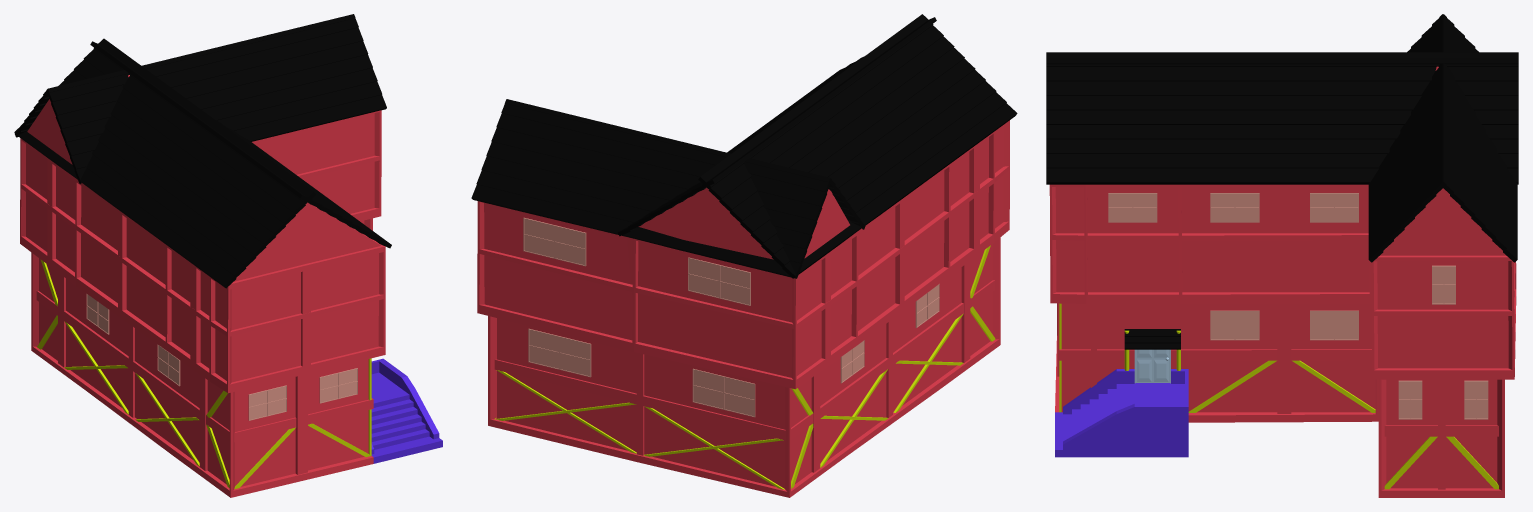
The model's file is Buidling 3_Finished.fbx.
3 views of the same model, side by side, from view 1: azimuth 30°, elevation 25°; view 2: azimuth 150°, elevation 25°; view 3: azimuth 270°, elevation 25° (orthographic). The views are drawn at different scales.
Visible parts, largest first — view 1: Building Main, roof, roof.002, Building STairs, Roof.001, roof.001, Window_Square.003, Window_Square.002, wooden brace.014, Window_Square.006, Window_Square.007; view 2: Building Main, roof, roof.001, Roof.001, Window_Square.013, Window_Square.015, Window_Square.014, Window_Square.012, roof.002, Window_Square.006, Window_Square.007; view 3: Building Main, Roof.001, Building STairs, roof.001, roof.002, roof, Window_Square, Window_Square.001, Window_Square.008, Window_Square.010, Window_Square.009, Door.001 (+6 smaller).
Boxes of the visible parts, left/top/right/bottom form: Building Main: left=20, top=75, right=385, bottom=497; roof: left=14, top=38, right=315, bottom=288; roof.002: left=46, top=14, right=386, bottom=183; Building STairs: left=371, top=358, right=442, bottom=463; Roof.001: left=90, top=41, right=391, bottom=248; roof.001: left=15, top=14, right=355, bottom=137; Window_Square.003: left=248, top=385, right=286, bottom=420; Window_Square.002: left=319, top=368, right=357, bottom=403; wooden brace.014: left=308, top=358, right=371, bottom=457; Window_Square.006: left=157, top=344, right=180, bottom=386; Window_Square.007: left=86, top=294, right=109, bottom=334; Building Main: left=477, top=120, right=1009, bottom=497; roof: left=698, top=14, right=1017, bottom=278; roof.001: left=471, top=99, right=831, bottom=278; Roof.001: left=617, top=17, right=936, bottom=236; Window_Square.013: left=523, top=217, right=586, bottom=266; Window_Square.015: left=528, top=328, right=591, bottom=377; Window_Square.014: left=692, top=368, right=755, bottom=417; Window_Square.012: left=688, top=257, right=750, bottom=305; roof.002: left=505, top=99, right=865, bottom=229; Window_Square.006: left=915, top=284, right=939, bottom=327; Window_Square.007: left=840, top=340, right=864, bottom=383; Building Main: left=1049, top=66, right=1516, bottom=497; Roof.001: left=1046, top=52, right=1518, bottom=184; Building STairs: left=1055, top=369, right=1188, bottom=457; roof.001: left=1439, top=14, right=1517, bottom=262; roof.002: left=1368, top=14, right=1446, bottom=262; roof: left=1046, top=58, right=1518, bottom=64; Window_Square: left=1210, top=310, right=1259, bottom=340; Window_Square.001: left=1310, top=310, right=1358, bottom=340; Window_Square.008: left=1210, top=193, right=1259, bottom=222; Window_Square.010: left=1108, top=193, right=1157, bottom=222; Window_Square.009: left=1310, top=193, right=1358, bottom=222; Door.001: left=1134, top=349, right=1170, bottom=383.
Size of the model in its own units: 1028 by 931 by 1222.
